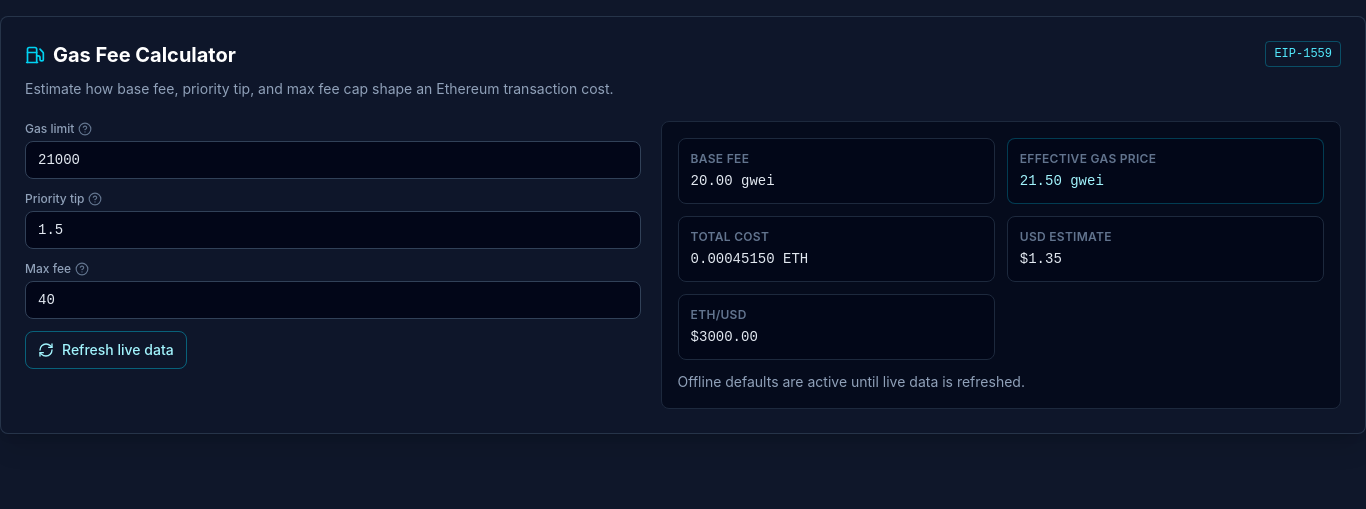
GasFeeCalculator › updates totals and warns when max fee is below base fee plus priority tip
This screenshot has width=1366, height=509.
Replace the text in the number field labelled "Max fee" with "21" at (333, 300), box [25, 281, 641, 319]
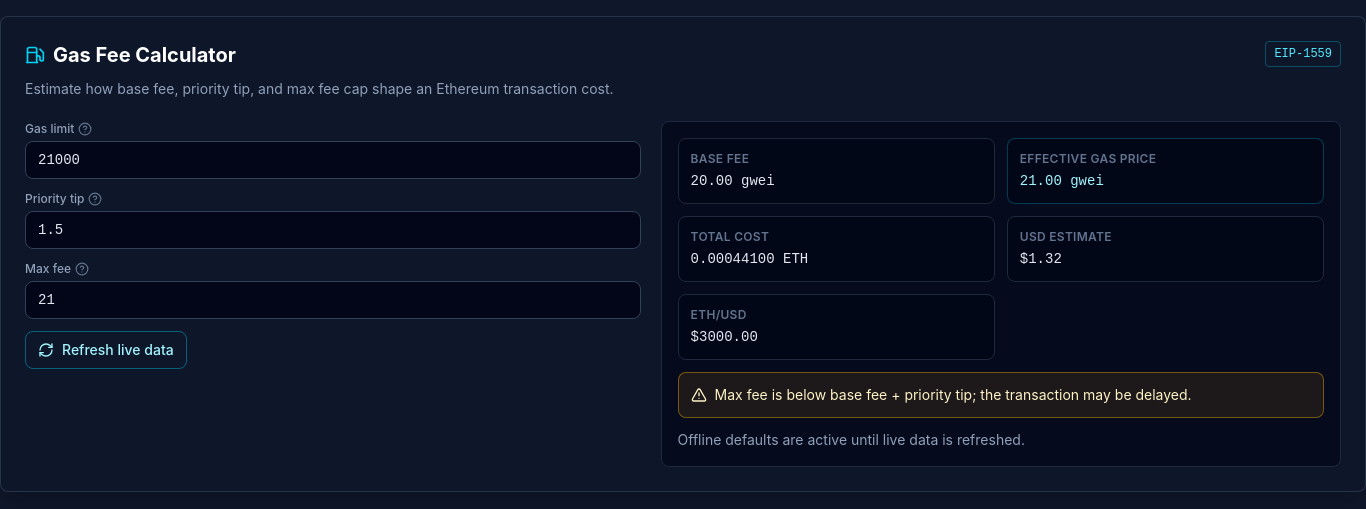
Check: the text "Max fee is below base fee + priority tip; the transaction may be delayed." is shown, box [715, 385, 1192, 405]
Check: the text "21.00 gwei" is shown, box [1020, 173, 1104, 189]
Check: the text "0.00044100 ETH" is shown, box [691, 251, 808, 267]
